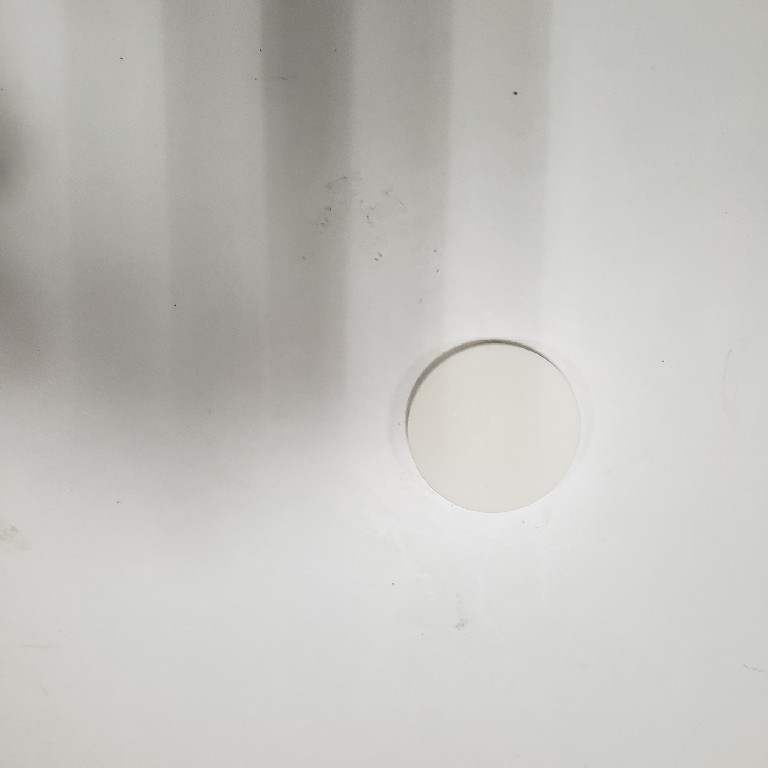ceramics: (389, 319, 598, 535)
